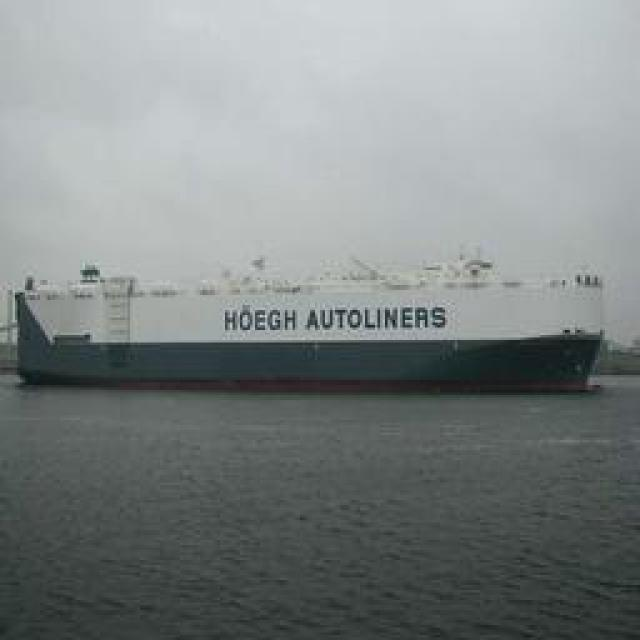Ship: (12, 249, 624, 389)
